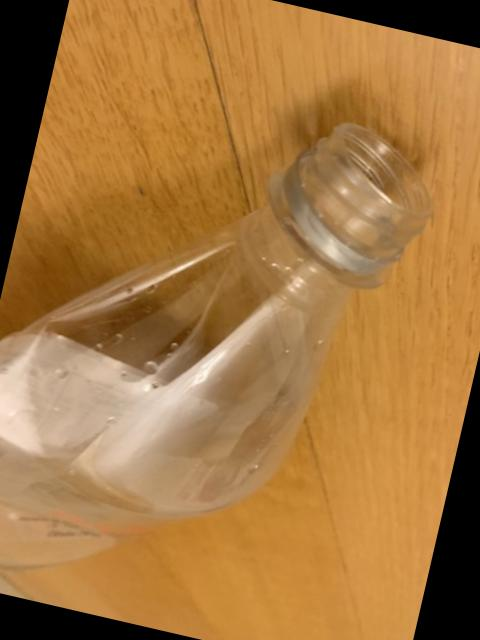plastic: (0, 125, 431, 568)
